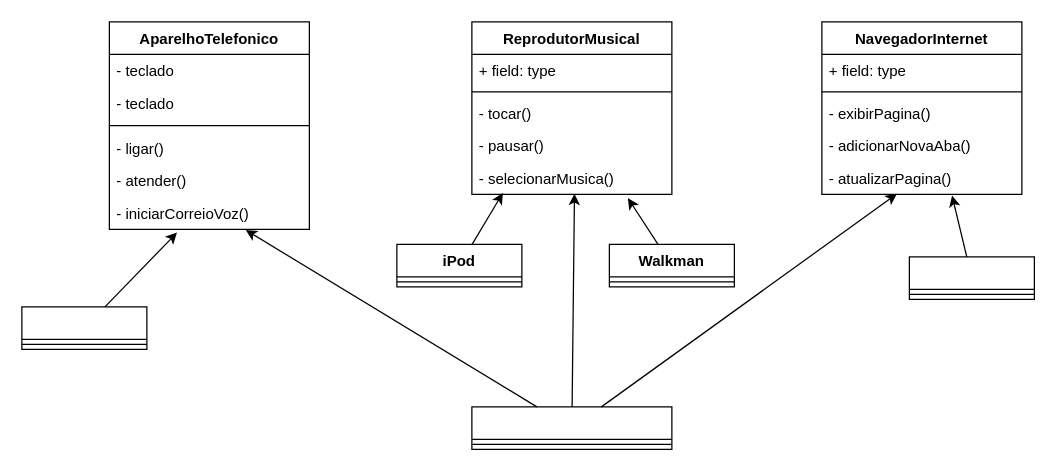
This 1056x471 diagram has some shape labels left out. Here are the shapes that lost their labels. From the top down, the centre of each, then its label:
point (971, 277): IExplorer
point (84, 327): Nokia
point (571, 427): SmartPhone
